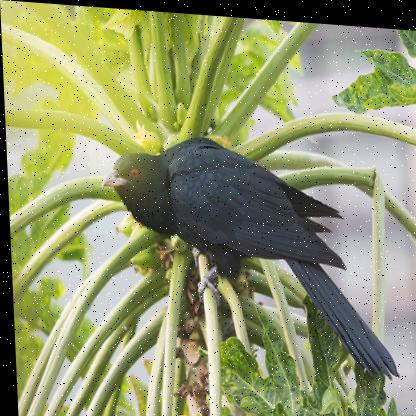Burung: (97, 127, 396, 375)
